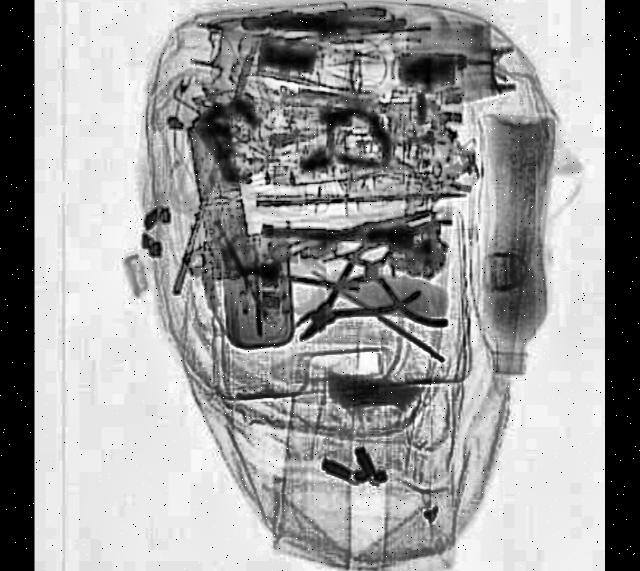Pliers: (277, 225, 422, 374), (322, 219, 451, 330), (238, 5, 406, 44)
